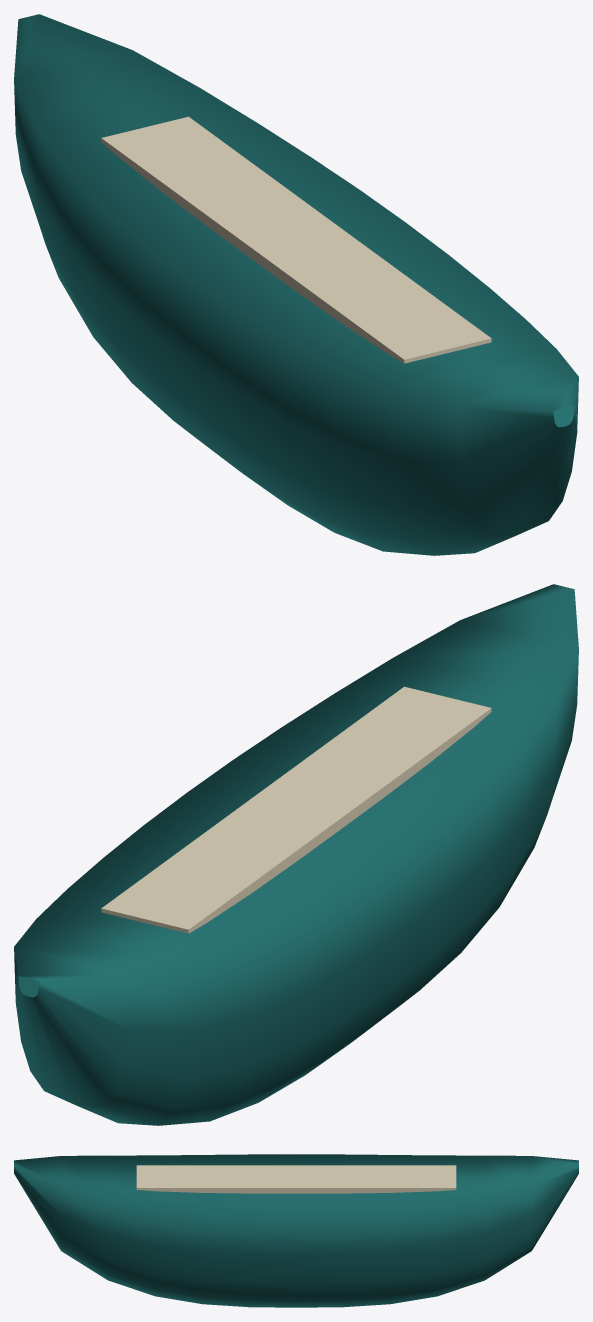
File: k1_psu.obj
3 renders of one model, top to bottom at view 1: azimuth 30°, elevation 25°; view 2: azimuth 150°, elevation 25°; view 3: azimuth 270°, elevation 25°, orthographic. The views are drawn at different scales.
Visible parts, largest first — view 1: k1_psu; view 2: k1_psu; view 3: k1_psu.
Part boxes in pixels (box(x1,y1,x2,y2)): k1_psu: box(14, 14, 578, 555); k1_psu: box(14, 584, 578, 1125); k1_psu: box(14, 1154, 578, 1307).
Bounding box in the file's own units: 0.25 × 0.28 × 1.06.
